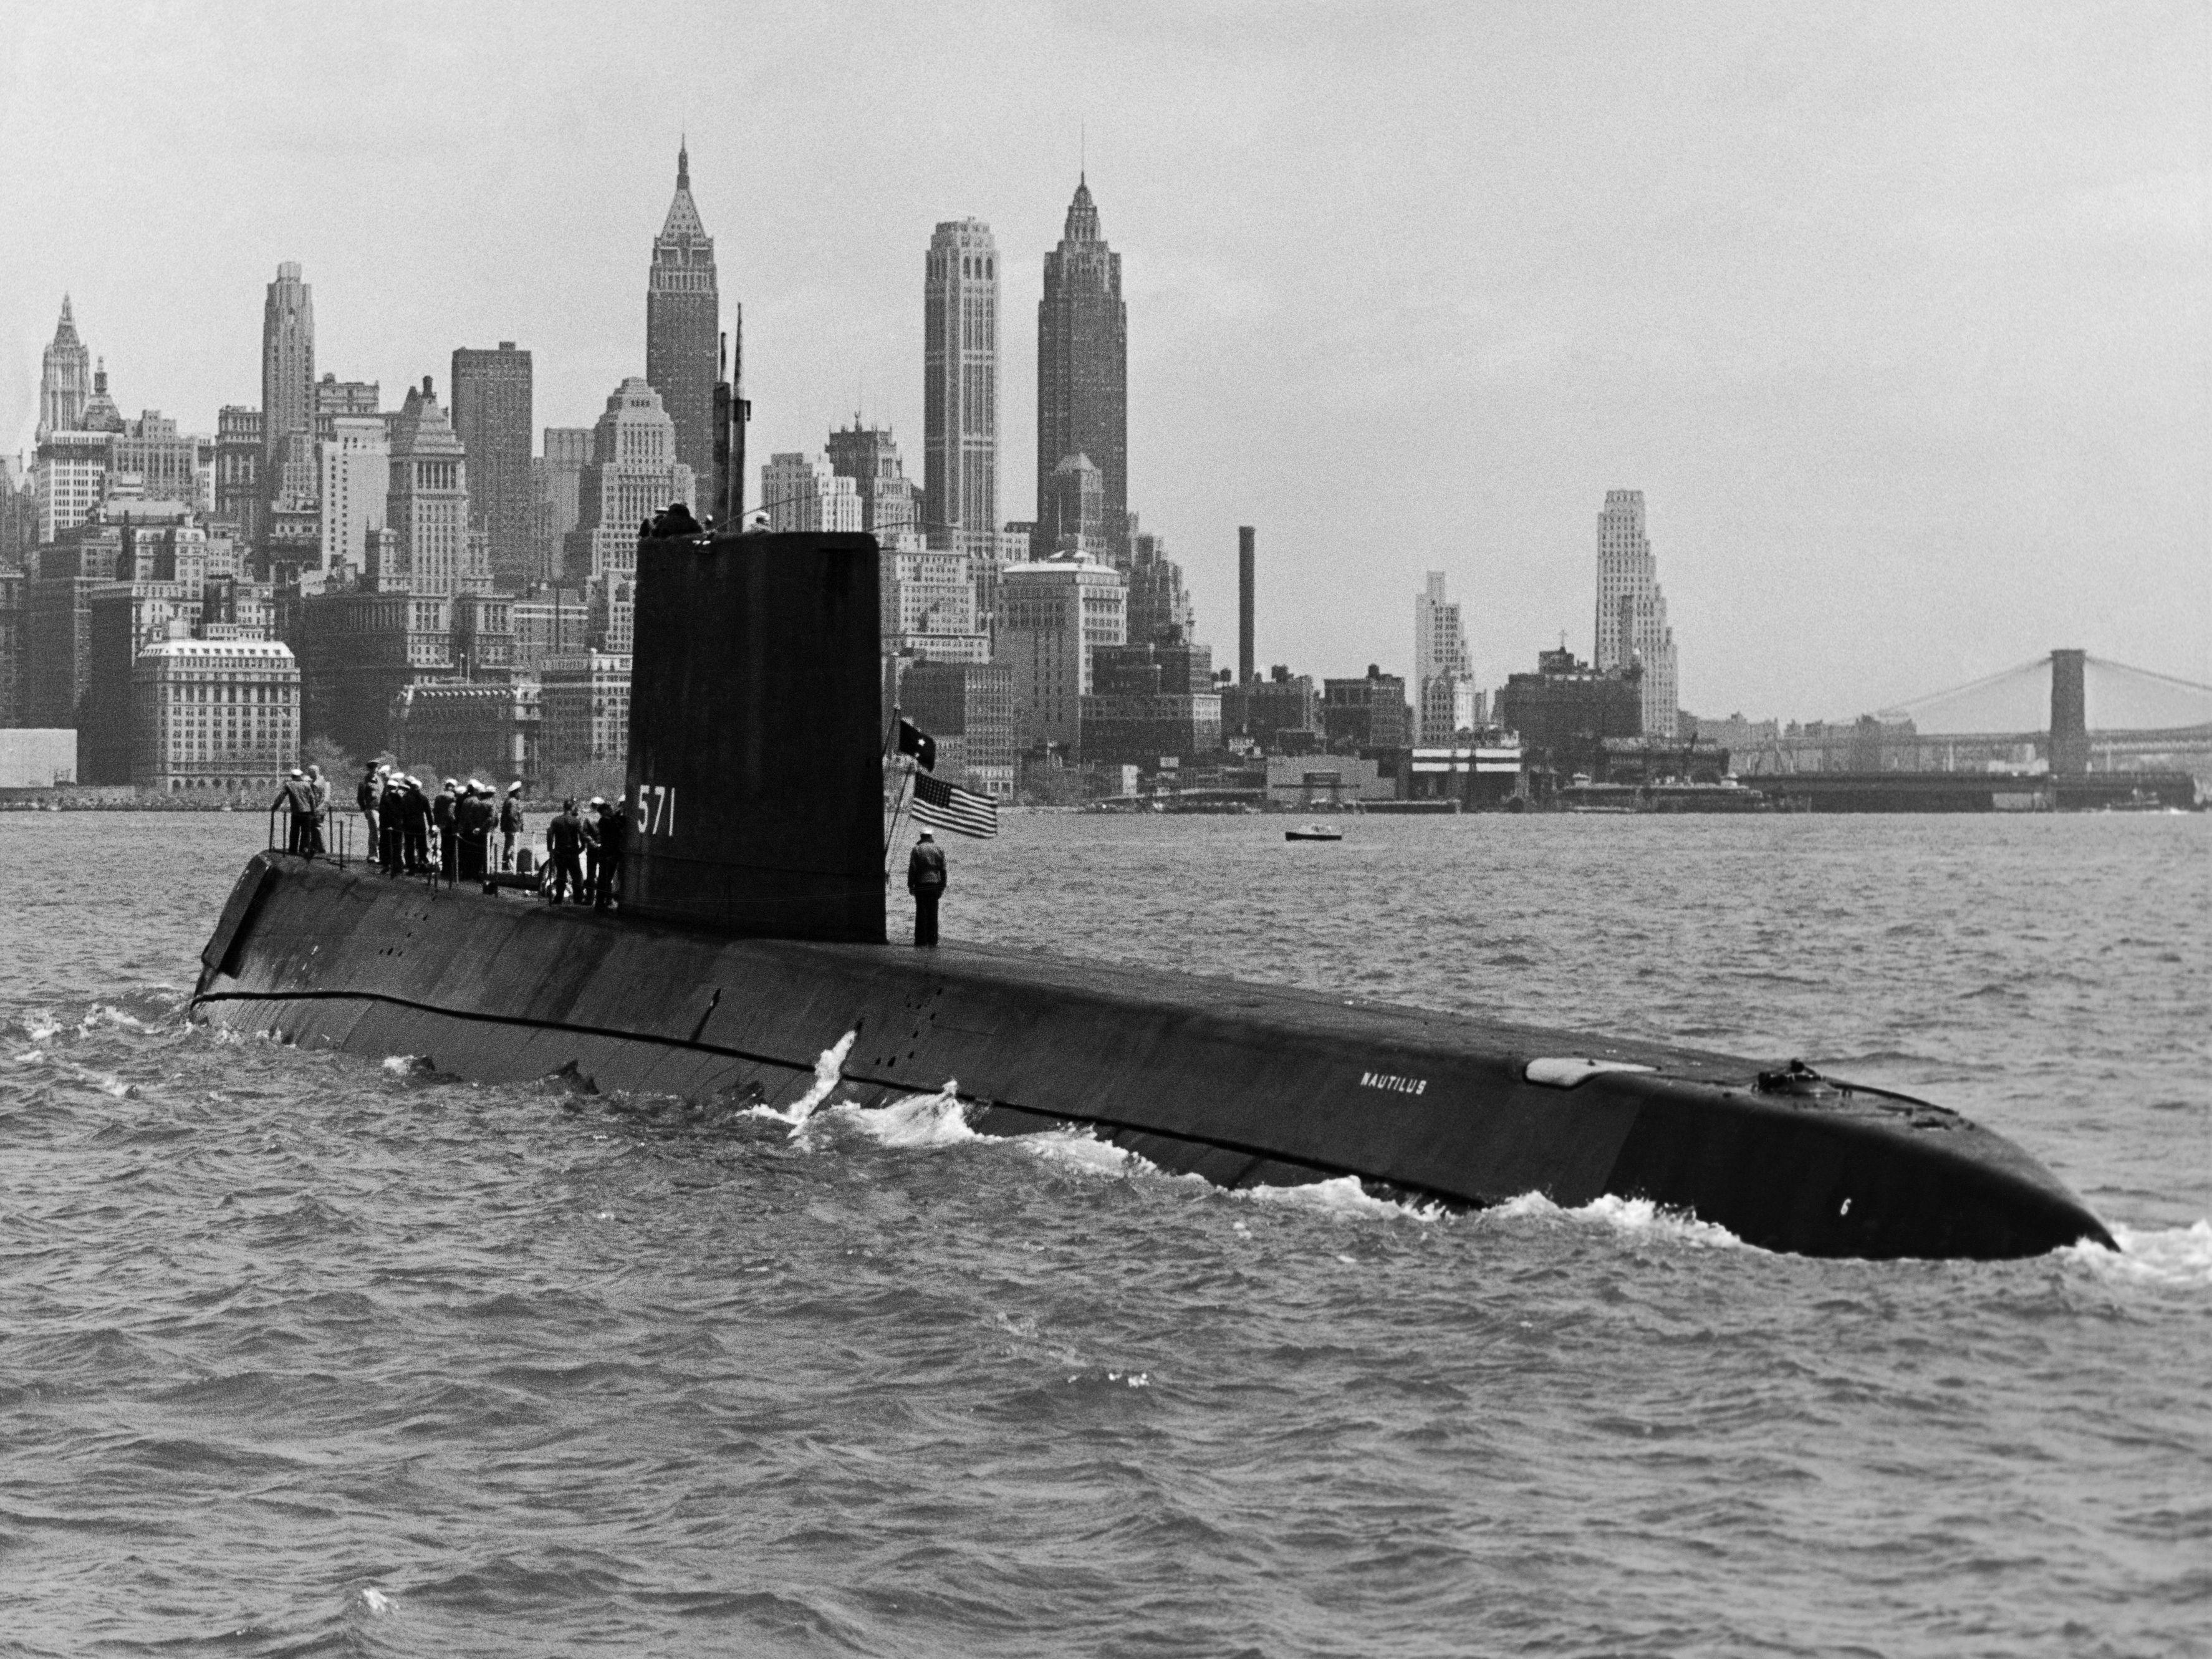Submarine: (110, 420, 2212, 1481)
